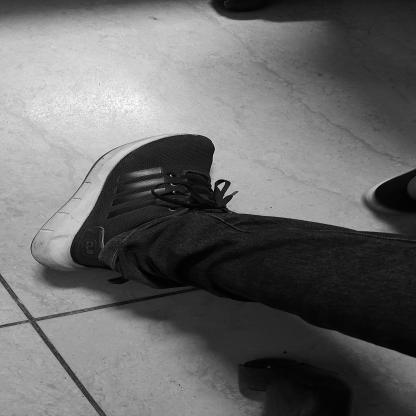ankle: (128, 229, 138, 233)
heel: (56, 267, 65, 271)
left_foot: (33, 135, 217, 273)
pinky: (141, 142, 157, 148)
toe: (206, 147, 214, 151)
